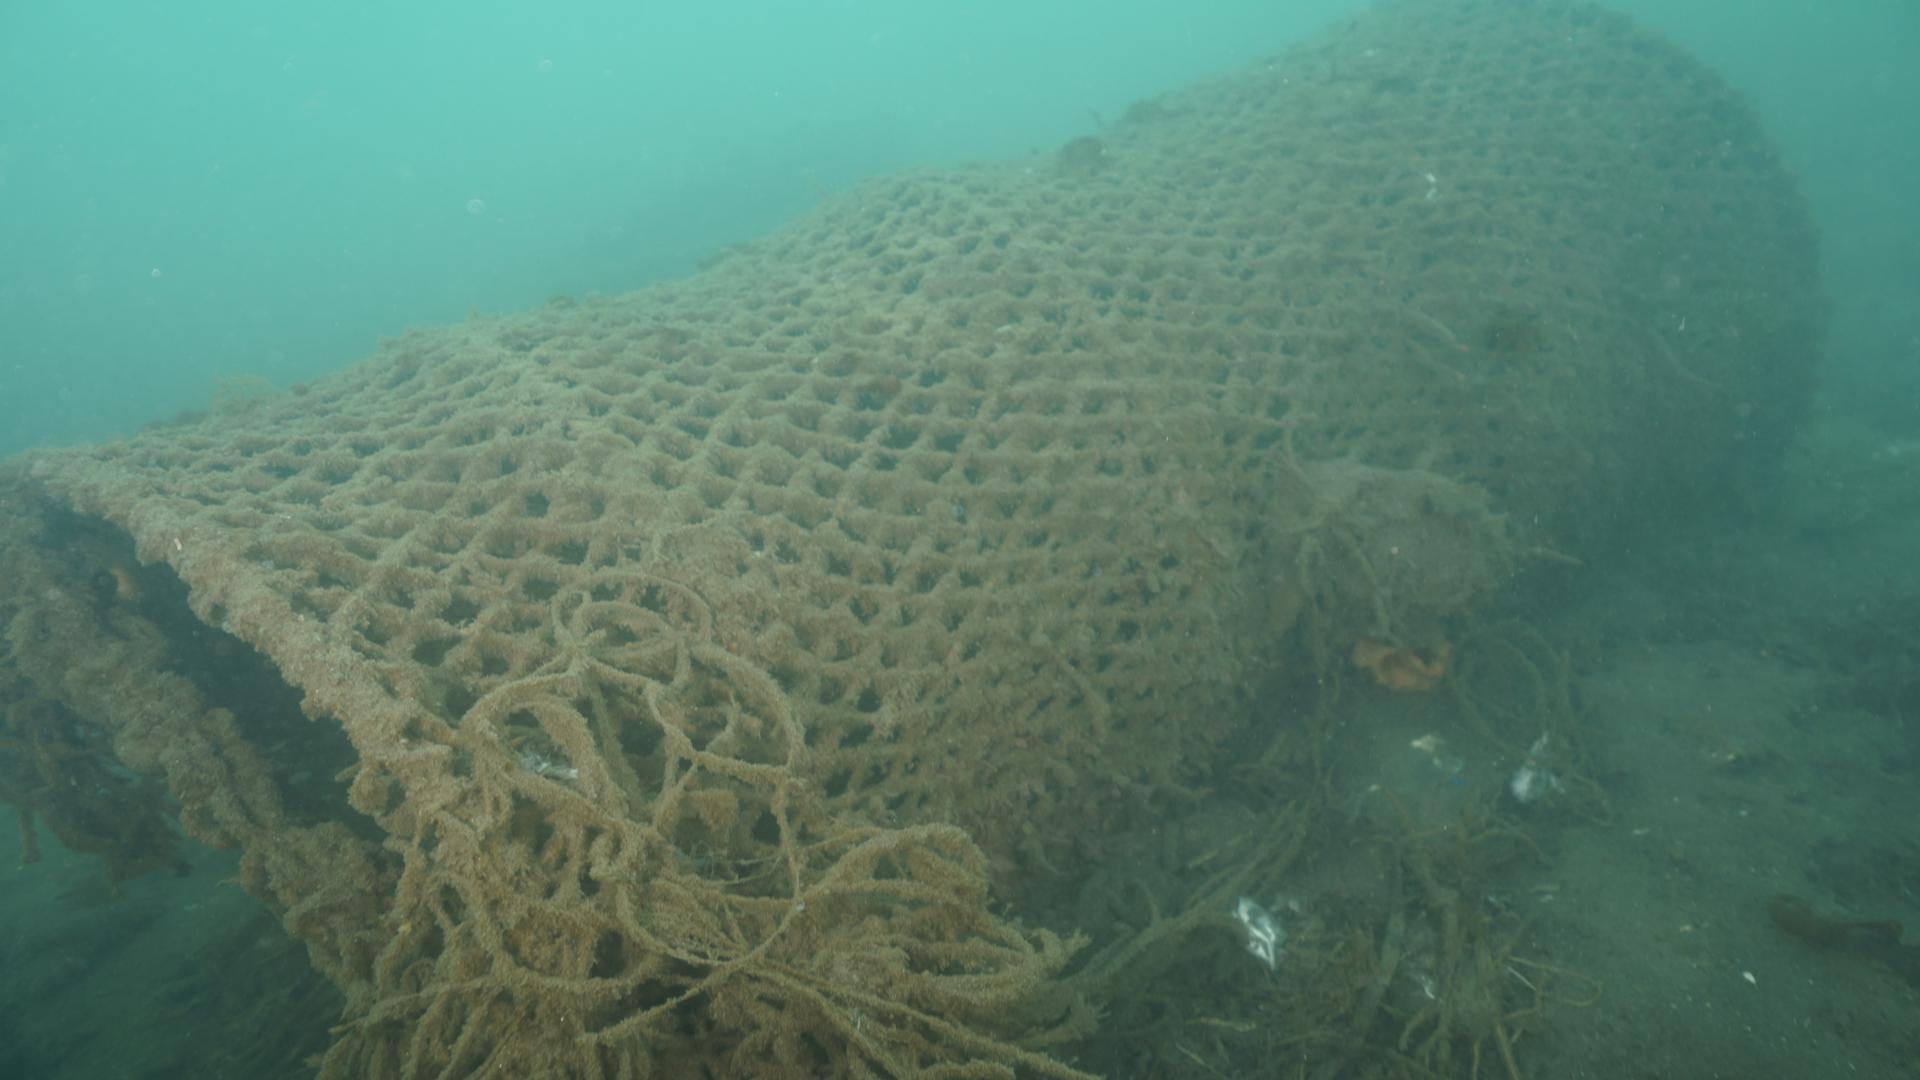spring fish trap: (0, 0, 1832, 1080)
